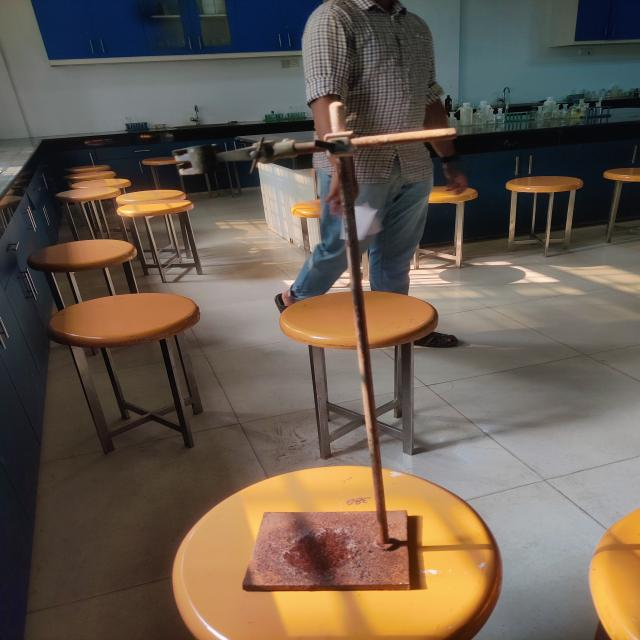Burette_Stands: (158, 107, 474, 608)
